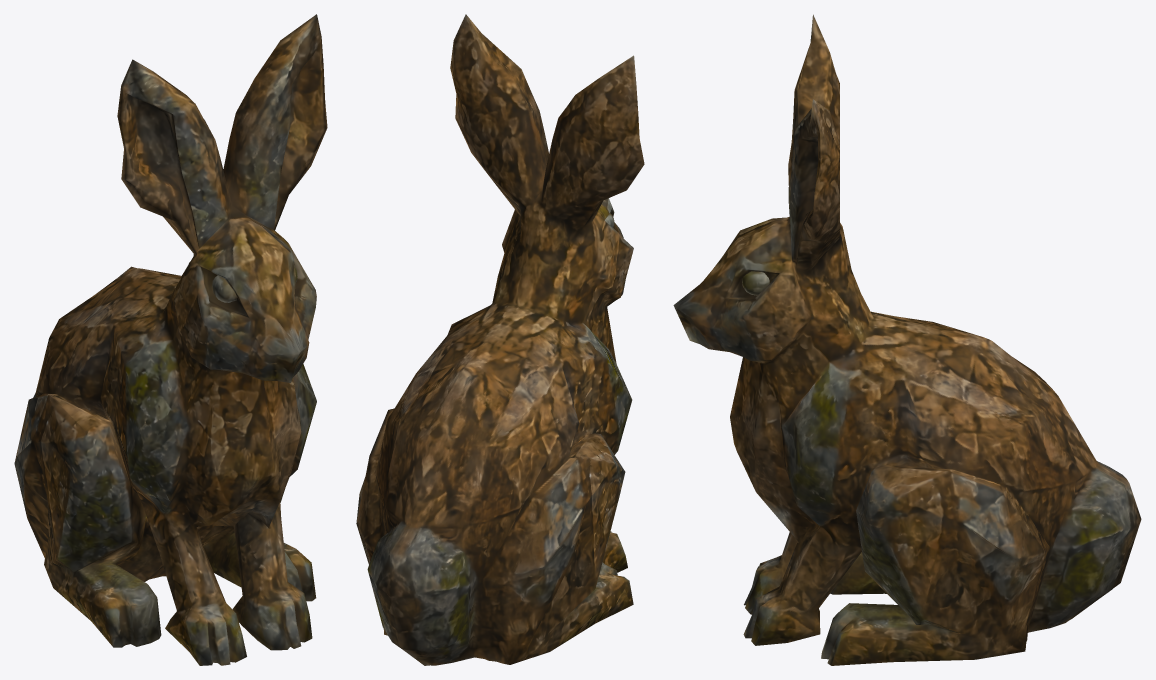
File: Rabbit.glb
3 renders of one model, left to right at view 1: azimuth 30°, elevation 25°; view 2: azimuth 150°, elevation 25°; view 3: azimuth 270°, elevation 25°, orthographic. The views are drawn at different scales.
Parts seen in each view (by area): view 1: Rabbit; view 2: Rabbit; view 3: Rabbit.
Boxes of the visible parts, x1,y1,x2,y2 form: Rabbit: (14, 14, 327, 665); Rabbit: (356, 14, 644, 665); Rabbit: (673, 14, 1141, 665).
Size of the model in its own units: 0.3921 by 0.9521 by 0.7173.
1 material, 1 textured.
